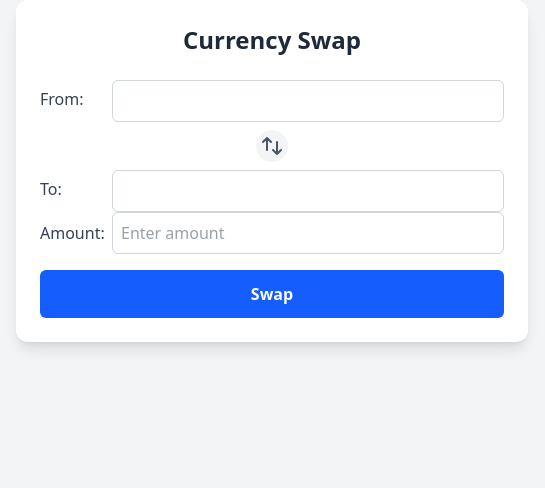
Test: CurrencySwapForm › calculates estimated output correctly
Note: Select from token (BTC at 50000)
Type "BTC" into the field labelled "From:" at (308, 101), box [112, 80, 504, 122]
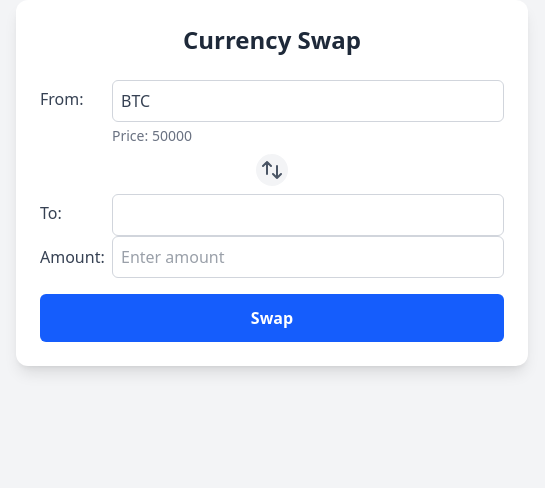
Note: Select to token (ETH at 2000)
Type "ETH" into the field labelled "To:" at (308, 215), box [112, 194, 504, 236]
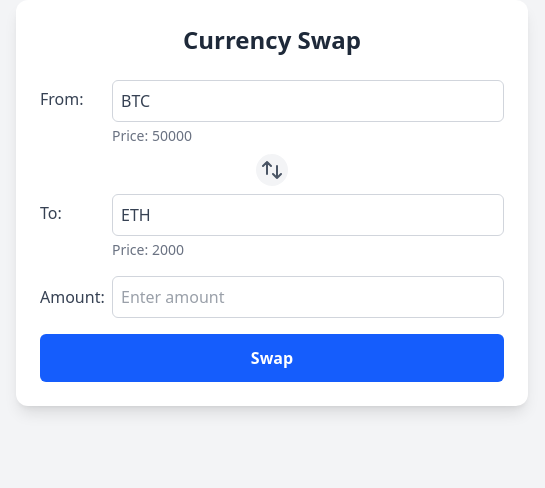
Note: Enter amount
Type "1" into the number field labelled "Amount:" at (308, 297), box [112, 276, 504, 318]
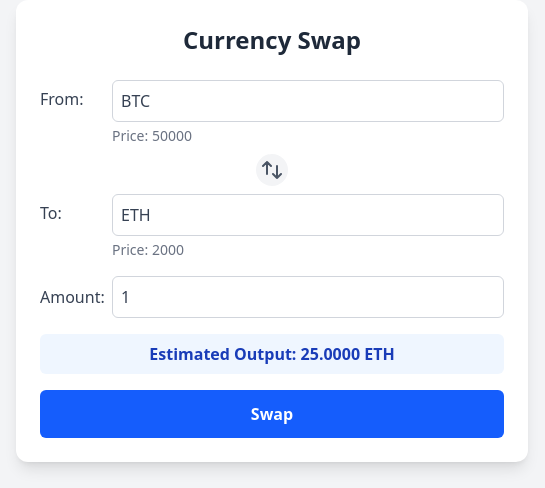
Expected: the text "Estimated Output: 25.0000 ETH" is shown, [40, 334, 504, 374]
